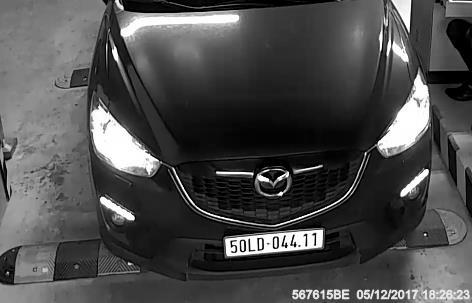License-plate: (212, 215, 329, 260)
